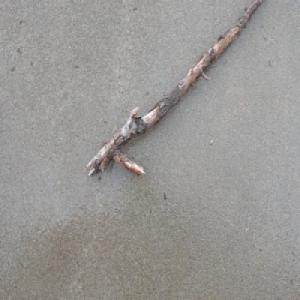Wood: (86, 0, 265, 180)
